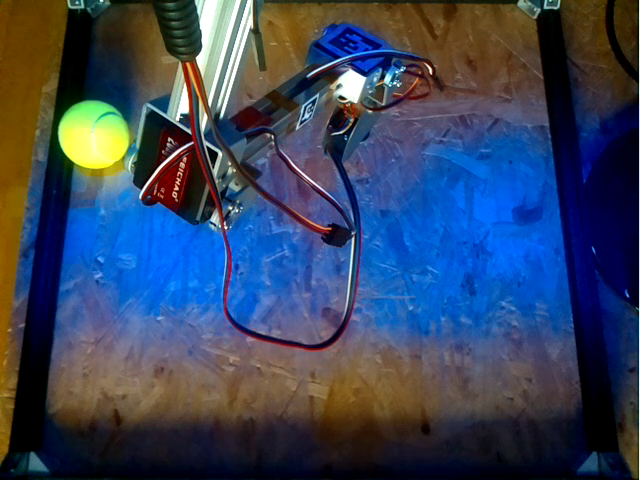tennis_ball: (59, 100, 130, 169)
